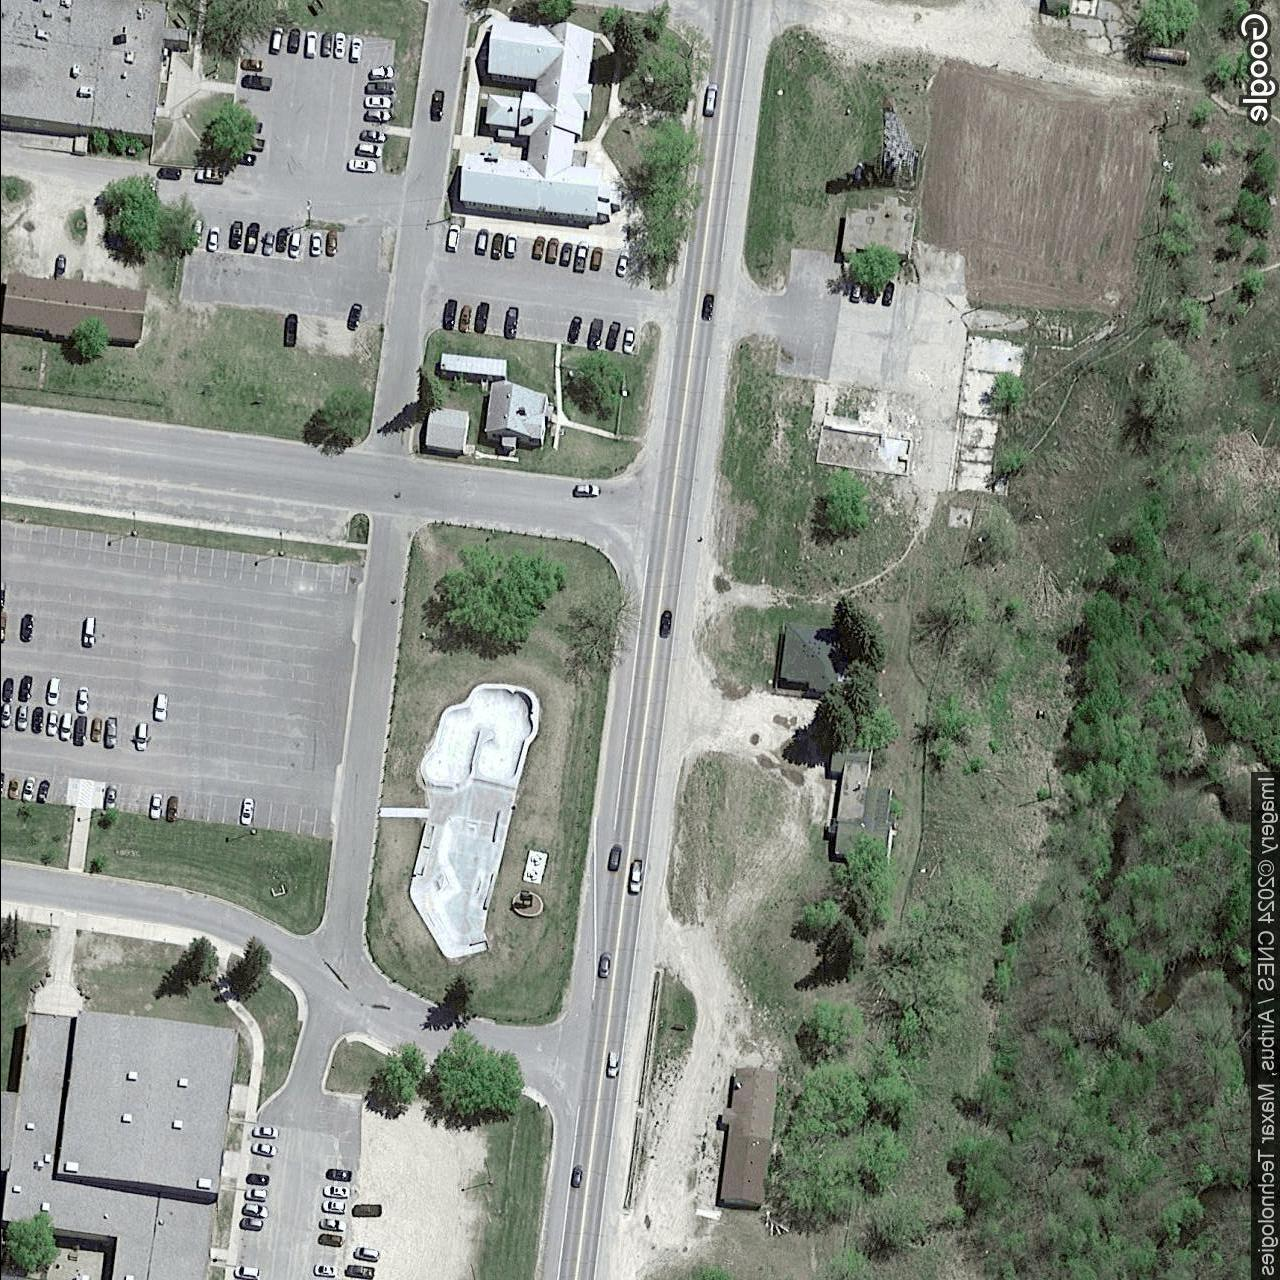Garage: (838, 202, 915, 259), (422, 403, 470, 456)
House: (719, 1067, 778, 1212), (830, 738, 894, 869), (777, 620, 843, 695), (483, 379, 549, 452)
Other: (1, 1007, 239, 1279), (459, 18, 621, 226), (0, 0, 188, 145)
